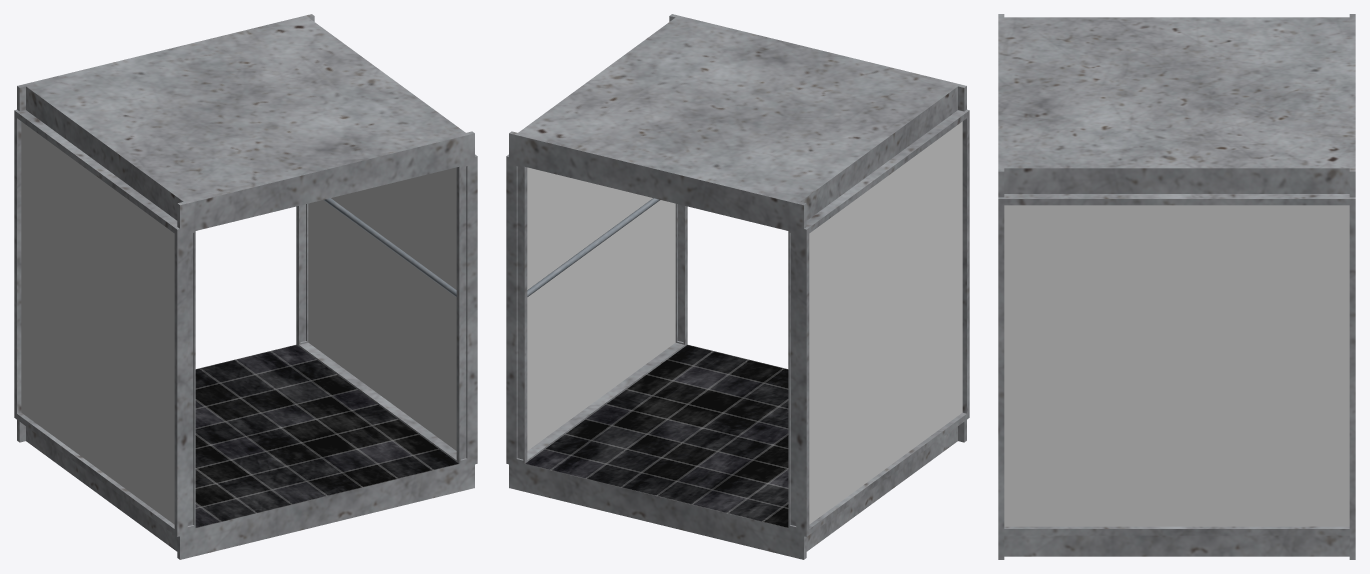
File: BridgeRoof.fbx
The picture shows the model from 3 angles, left to right: view 1: azimuth 30°, elevation 25°; view 2: azimuth 150°, elevation 25°; view 3: azimuth 270°, elevation 25°; orthographic projection. The views are drawn at different scales.
Visible parts, largest first — view 1: BridgeRoof; view 2: BridgeRoof; view 3: BridgeRoof.
Boxes of the visible parts, bbox=[...] form: BridgeRoof: bbox=[14, 14, 477, 559]; BridgeRoof: bbox=[506, 14, 969, 559]; BridgeRoof: bbox=[998, 14, 1355, 559].
Size of what is drawn, in the model's own units: 213 by 240 by 200.
